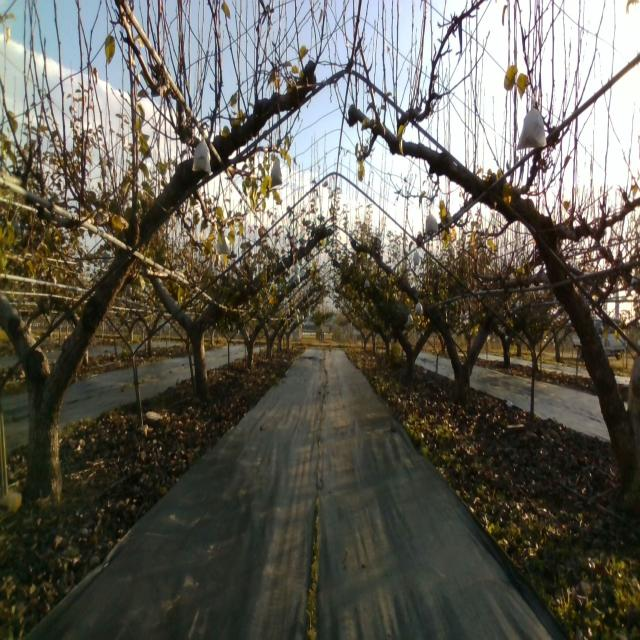pearbags: (516, 97, 548, 150), (192, 133, 211, 173), (425, 209, 440, 234), (216, 234, 232, 256), (271, 161, 283, 187)
